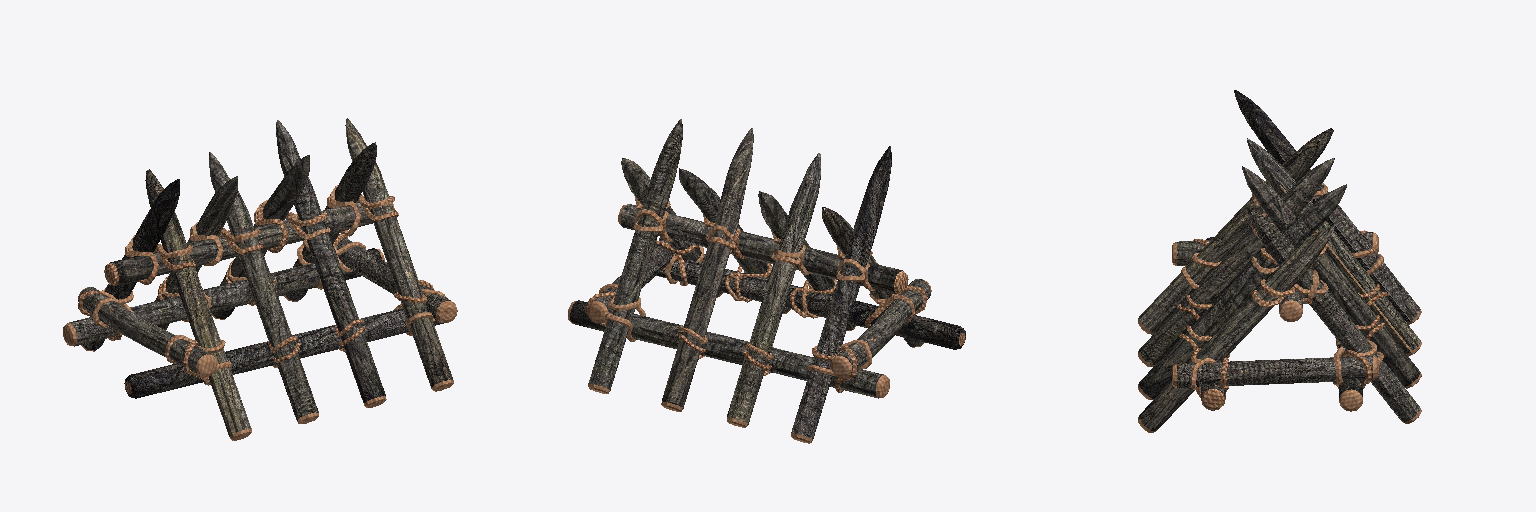
3 renders of one model, left to right at view 1: azimuth 30°, elevation 25°; view 2: azimuth 150°, elevation 25°; view 3: azimuth 270°, elevation 25°, orthographic.
Visible parts, largest first — view 1: Plane.002; view 2: Plane.002; view 3: Plane.002.
Part boxes in pixels (x1,y1,x2,y2): Plane.002: (63,118,457,440); Plane.002: (568,119,965,443); Plane.002: (1138,90,1421,432).
Size of the model in its own units: 29.45 by 20.63 by 22.53.
1 materials, 1 textured.